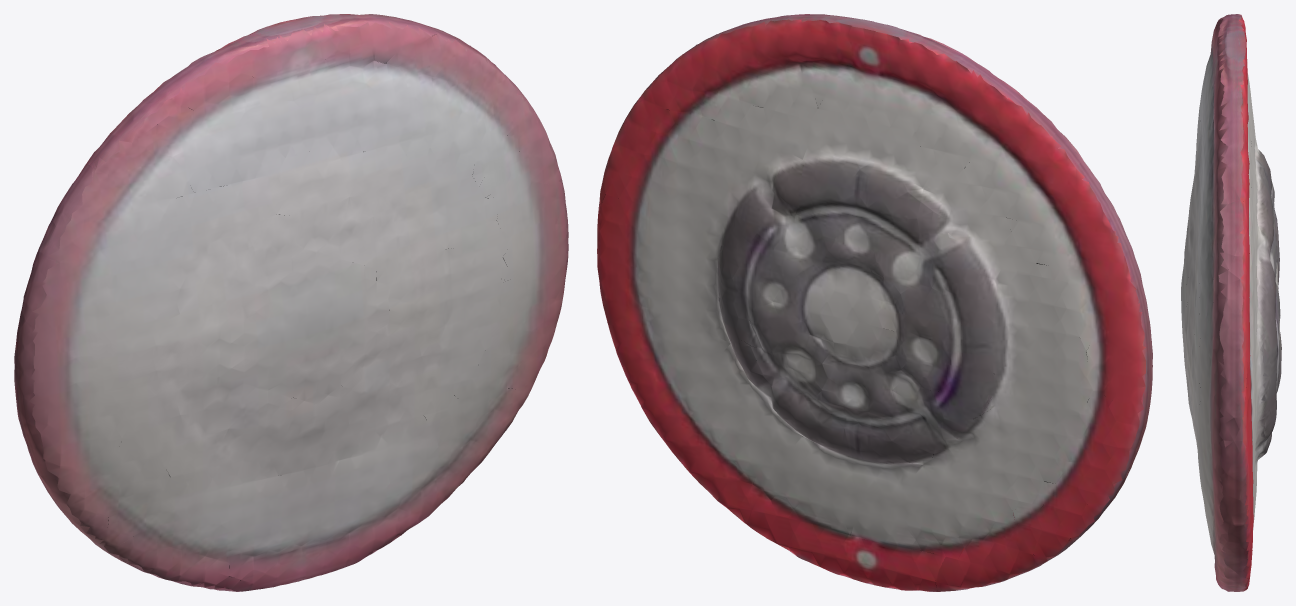
3 views of the same model, side by side, from view 1: azimuth 30°, elevation 25°; view 2: azimuth 150°, elevation 25°; view 3: azimuth 270°, elevation 25° (orthographic). The views are drawn at different scales.
Parts seen in each view (by area): view 1: world; view 2: world; view 3: world.
Boxes of the visible parts, bbox=[...] form: world: bbox=[14, 14, 568, 591]; world: bbox=[597, 14, 1152, 591]; world: bbox=[1181, 14, 1281, 591].
Size of the model in its own units: 0.9856 by 0.9558 by 0.1678.
1 material, 1 textured.
